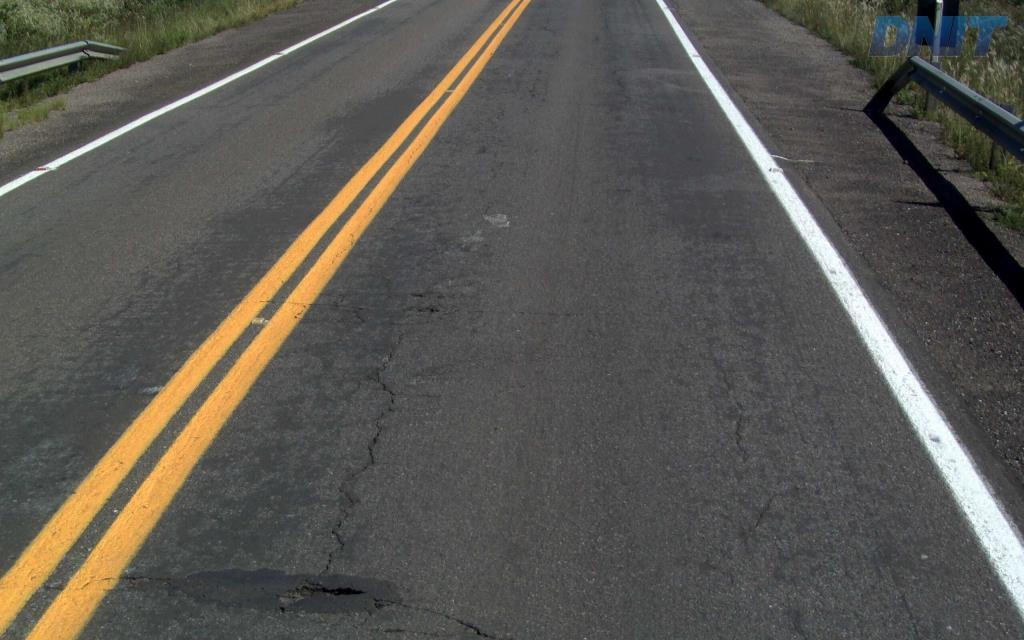crack: (292, 579, 366, 597)
